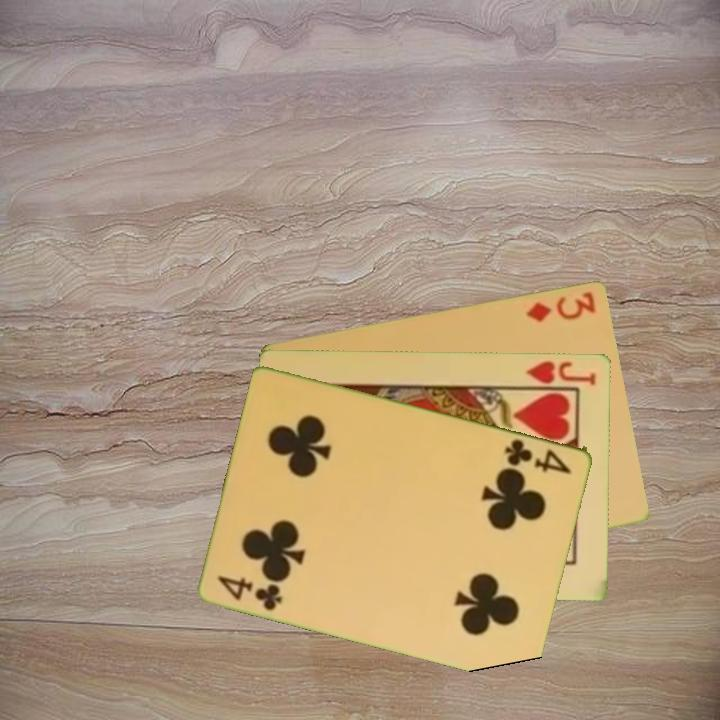3d: (523, 287, 599, 325)
4c: (502, 435, 575, 477), (215, 572, 286, 613)
Jh: (523, 357, 600, 388)
